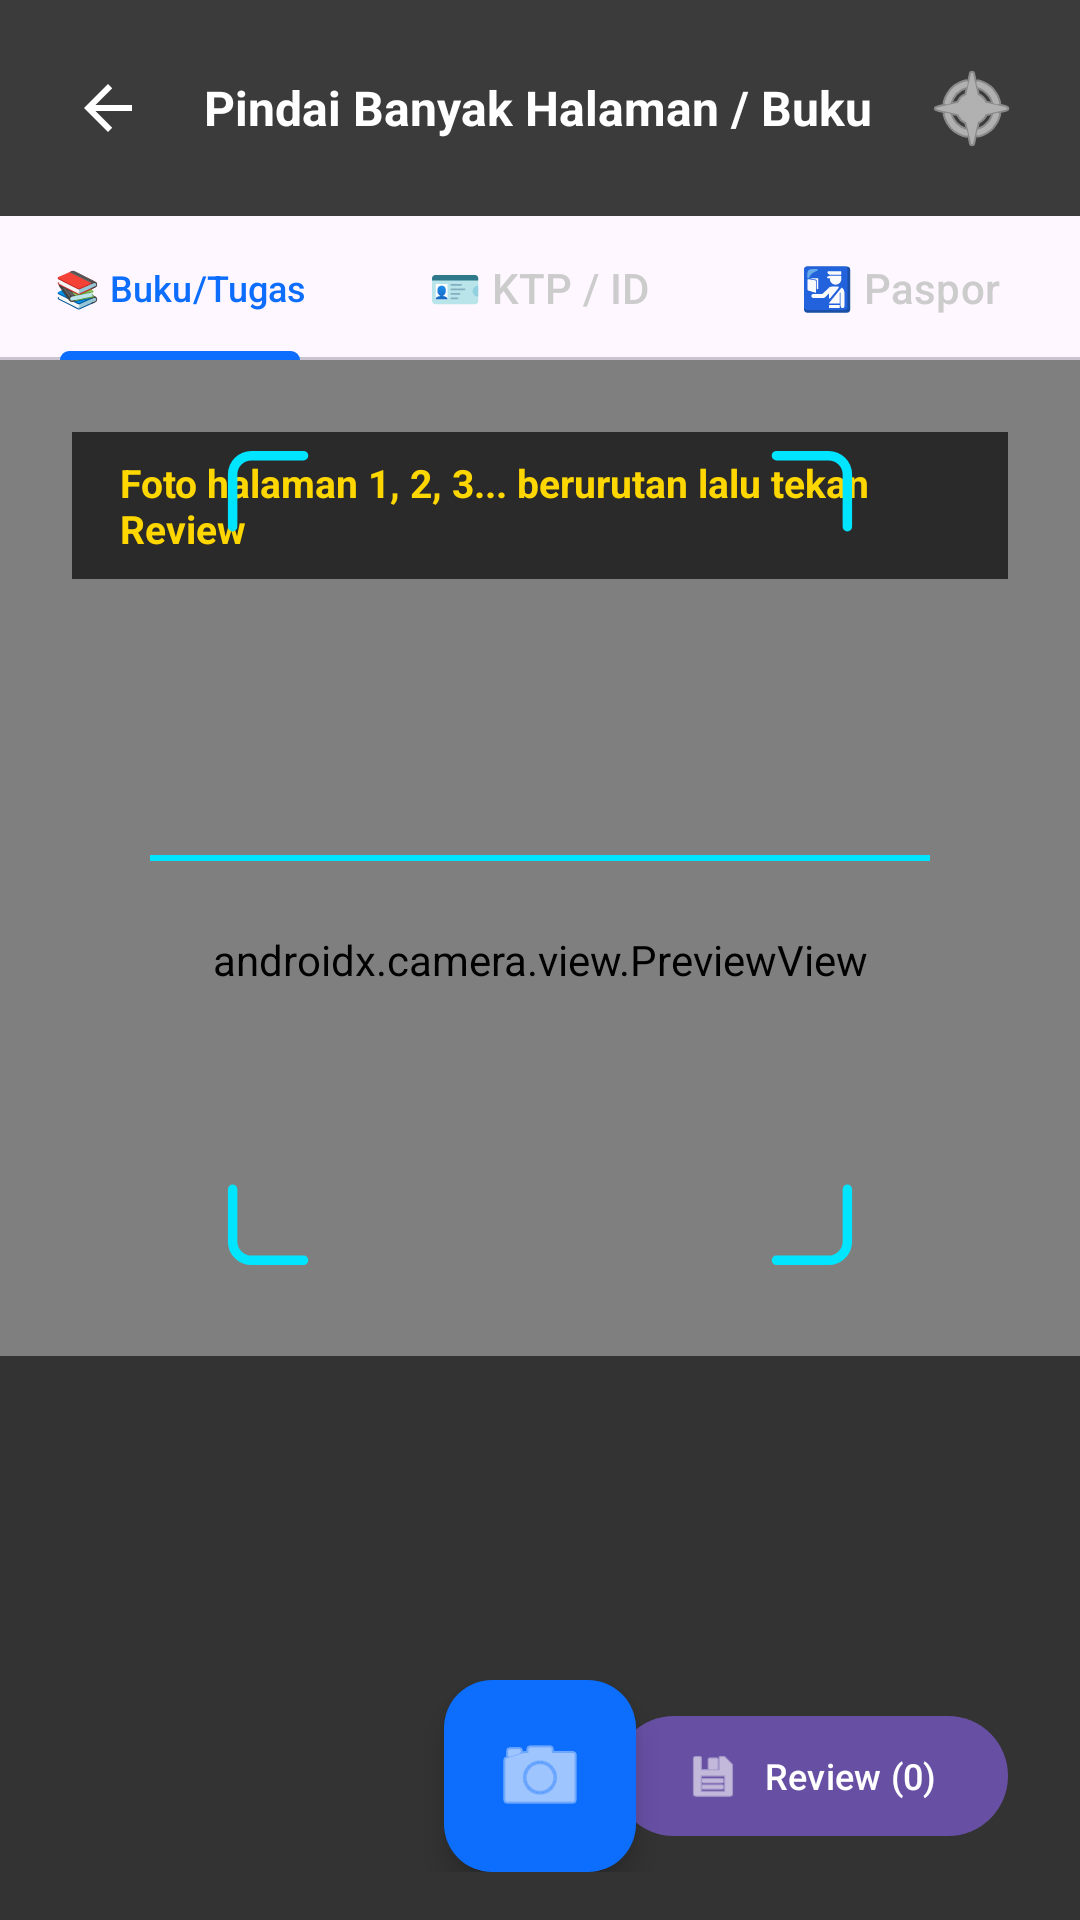

Where icons sit on this 1080 x 1920 app screen, as {"x1": x1, "y1": y1, "x2": x2, "y2": y2}:
arrow back: {"x1": 84, "y1": 84, "x2": 132, "y2": 132}
compass: {"x1": 934, "y1": 71, "x2": 1010, "y2": 146}
